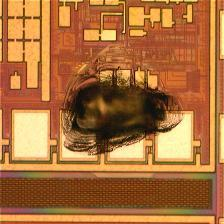PARTICLE: (57, 42, 190, 158)
